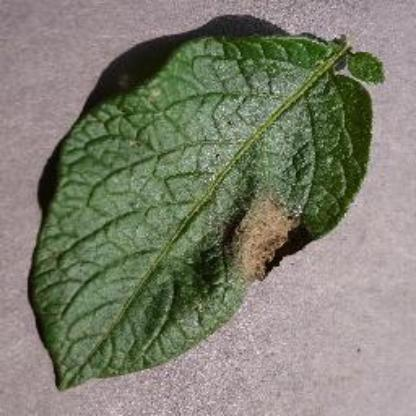Late-Blight: (29, 26, 389, 392)
